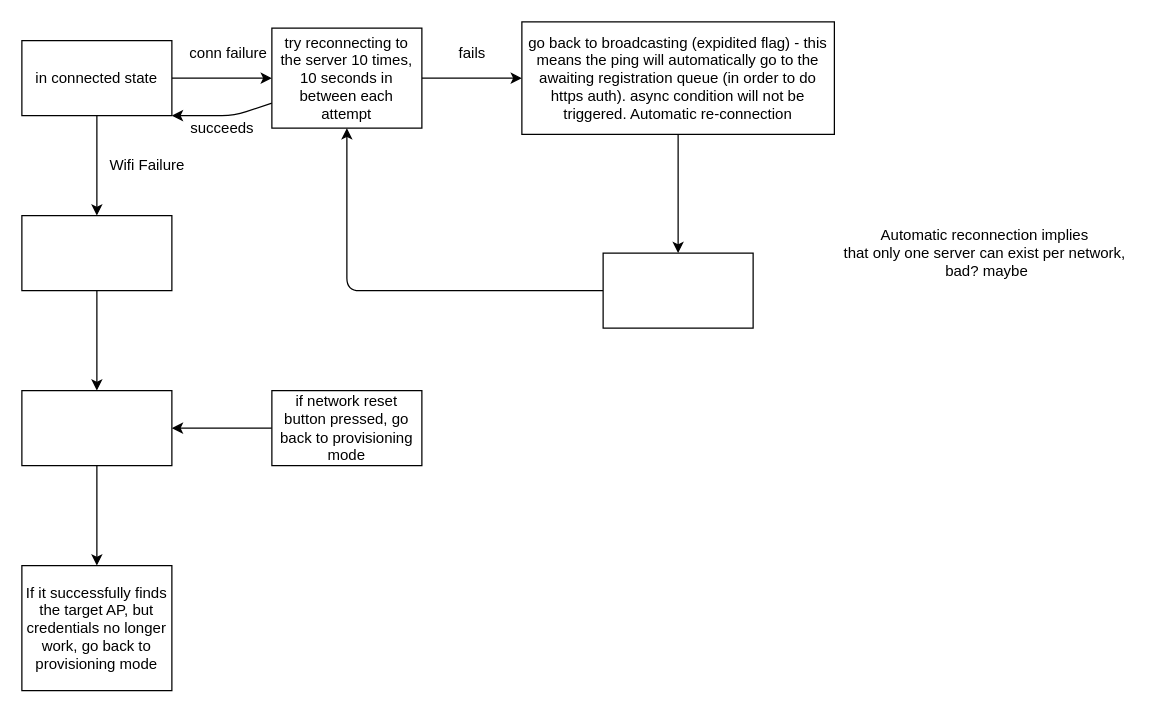
Some shapes in this 1163 by 713 pixel diagram are drawn without their labels. The shapes that lost their labels are listed below. From the top down, each one's centre as x and y in pixels, then its label:
(x=96, y=252): wifi recovery state
(x=677, y=290): association (what was mentioned above for https)
(x=96, y=427): continuously try reconnecting to the wifi
